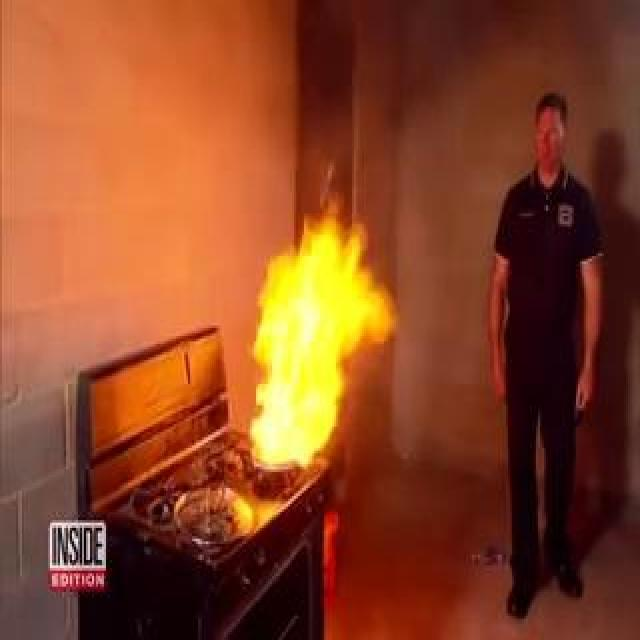fire: (261, 224, 376, 465)
